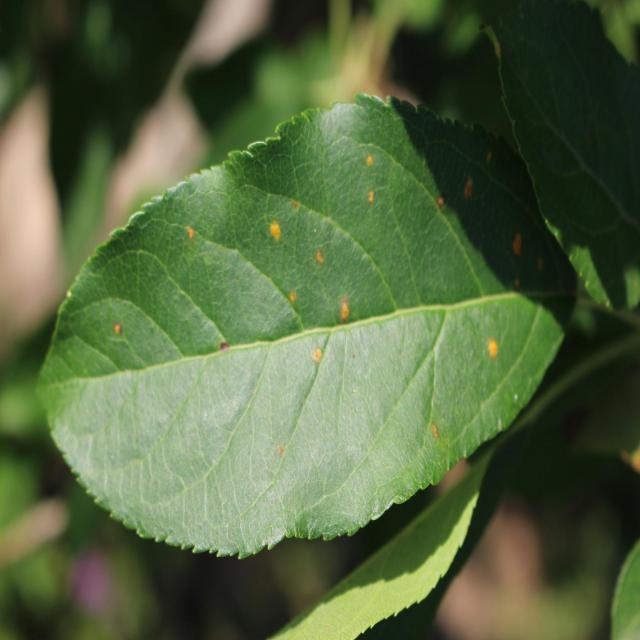Rust: (334, 292, 354, 333), (262, 218, 286, 250), (483, 328, 503, 366), (106, 310, 128, 341), (311, 245, 330, 276), (361, 144, 378, 177), (364, 182, 380, 216), (183, 222, 200, 247), (310, 344, 324, 366), (288, 289, 300, 310)
